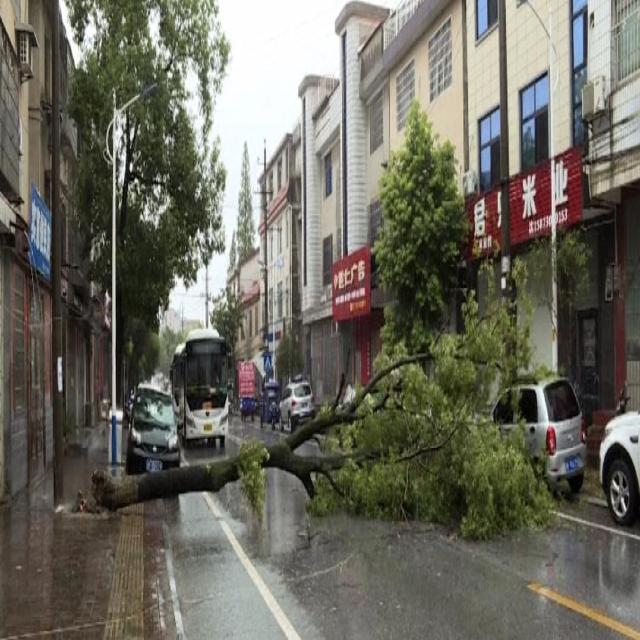fallen_object: (73, 293, 564, 546)
